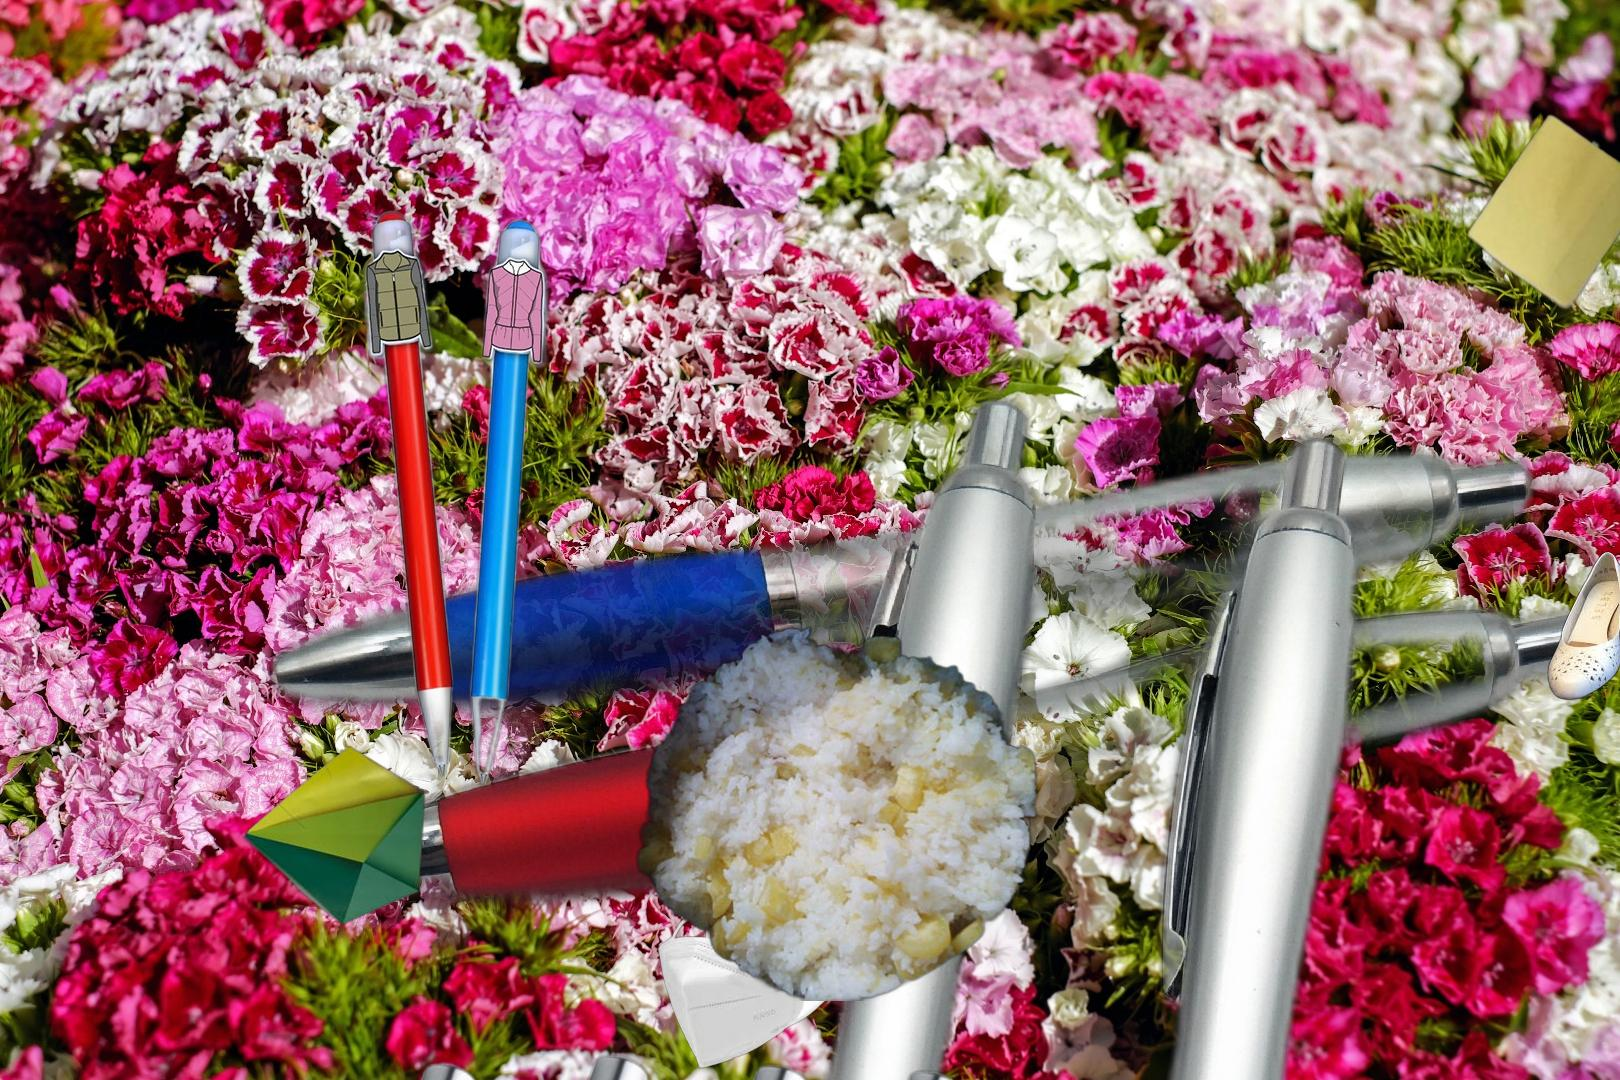biological: (630, 623, 1043, 1000)
paper: (237, 745, 430, 928), (1462, 111, 1620, 315)
penholder: (254, 382, 1606, 1080), (357, 204, 554, 793), (210, 1047, 972, 1080)
shoes: (1546, 548, 1620, 703)
trash: (655, 912, 858, 1072)
